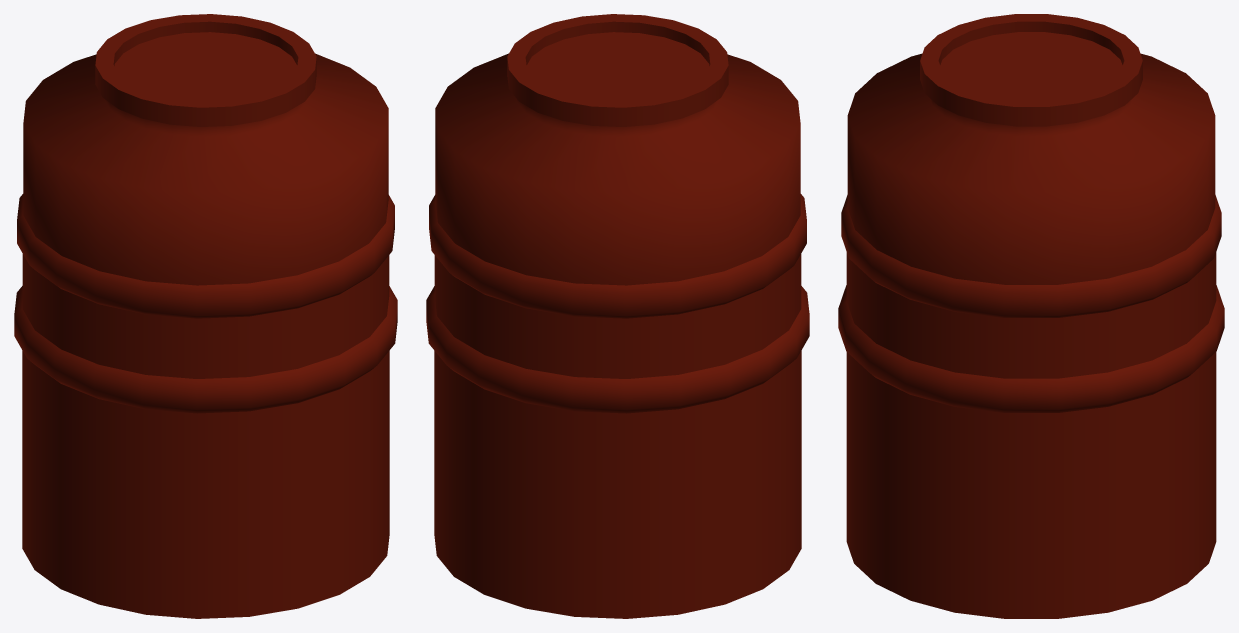
File: canister1.FBX
3 renders of one model, left to right at view 1: azimuth 30°, elevation 25°; view 2: azimuth 150°, elevation 25°; view 3: azimuth 270°, elevation 25°, orthographic.
Parts seen in each view (by area): view 1: canister1; view 2: canister1; view 3: canister1.
Boxes of the visible parts, box(x1,y1,x2,y2) form: canister1: box(14, 14, 397, 618); canister1: box(426, 14, 809, 618); canister1: box(838, 14, 1224, 618).
Size of the model in its own units: 54.15 by 75.22 by 54.71.
